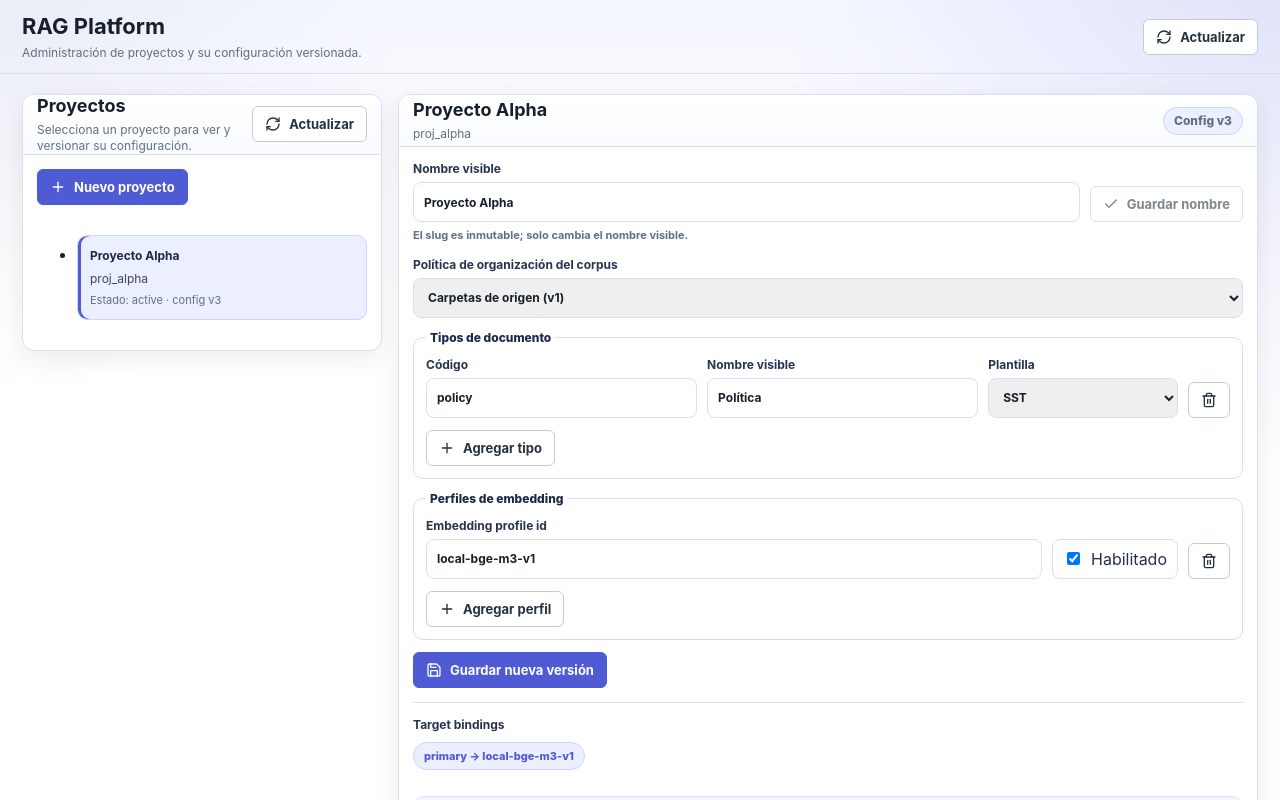
Scenario: ProjectWorkspace › surfacea el mensaje de validación 422 al guardar configuración
Click the button "Guardar nueva versión" at (510, 670), box [413, 652, 607, 688]
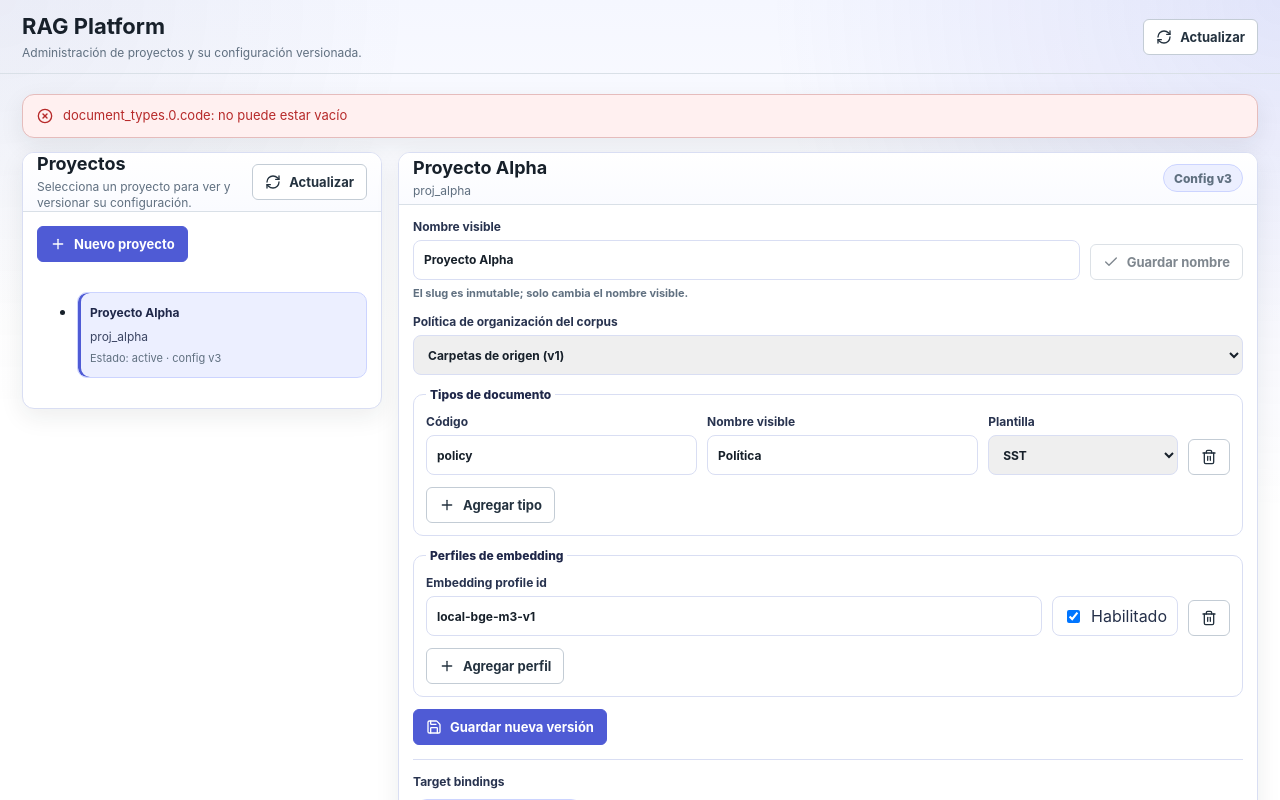
expect the text "document_types.0.code: no puede estar vacío" is shown: met, box [63, 107, 347, 124]
